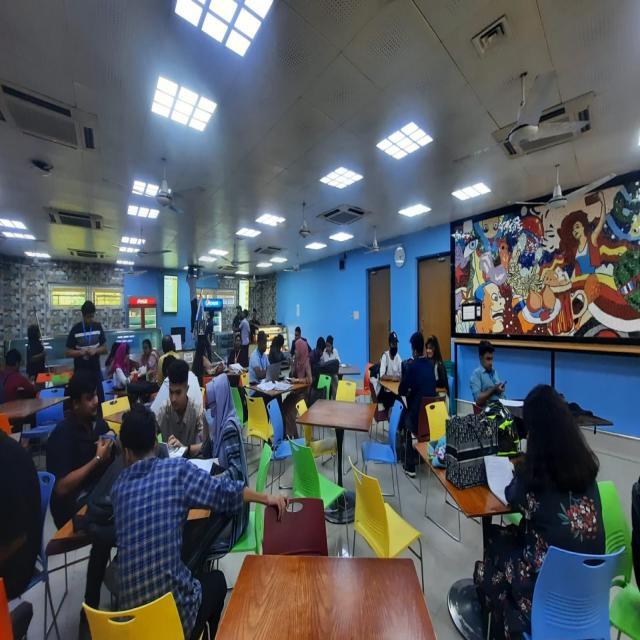absent-minded: (468, 339, 510, 399)
group-studying: (56, 358, 250, 528), (251, 335, 310, 398), (312, 329, 338, 365)
